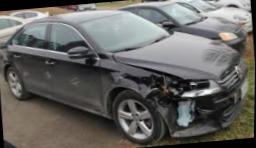Bonnet: (110, 53, 221, 82)
Bumper: (145, 82, 249, 136)
Light: (144, 75, 222, 99)
